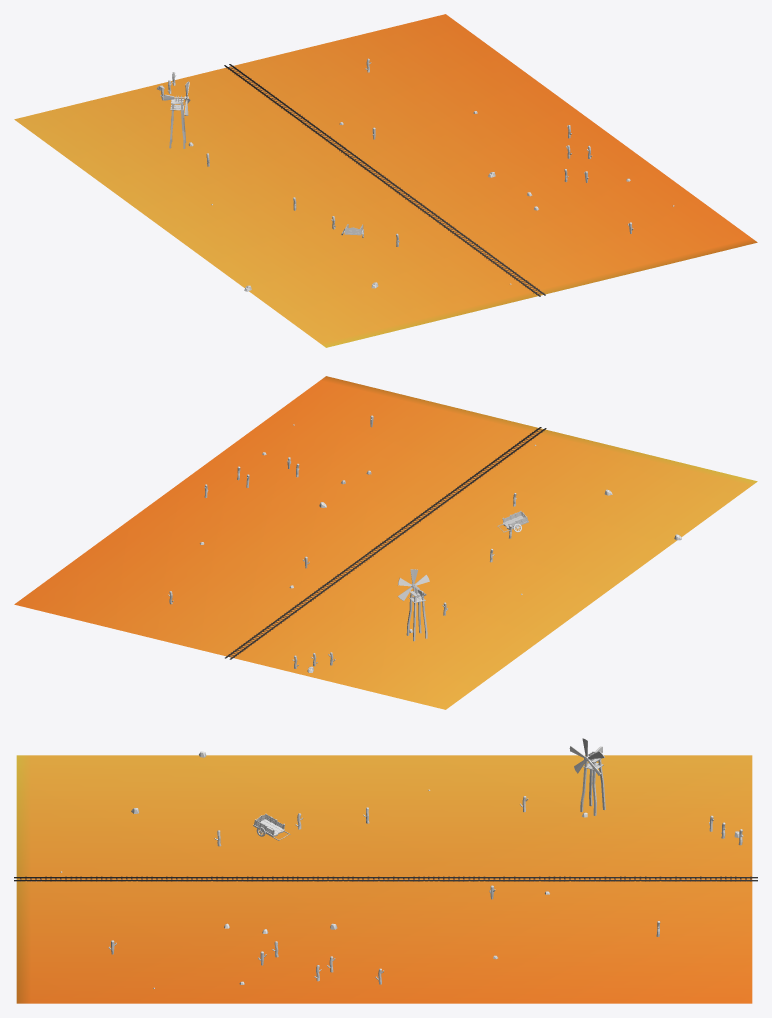
The model's file is Lvl_Version_03.fbx.
3 renders of one model, top to bottom at view 1: azimuth 30°, elevation 25°; view 2: azimuth 150°, elevation 25°; view 3: azimuth 270°, elevation 25°, orthographic. The views are drawn at different scales.
Visible parts, largest first — view 1: Level_04; view 2: Level_04; view 3: Level_04.
Part boxes in pixels (x1,y1,x2,y2): Level_04: (14,14,757,347); Level_04: (14,376,757,709); Level_04: (14,738,757,1003).
Size of the model in its own units: 16124 by 2264 by 20276.
